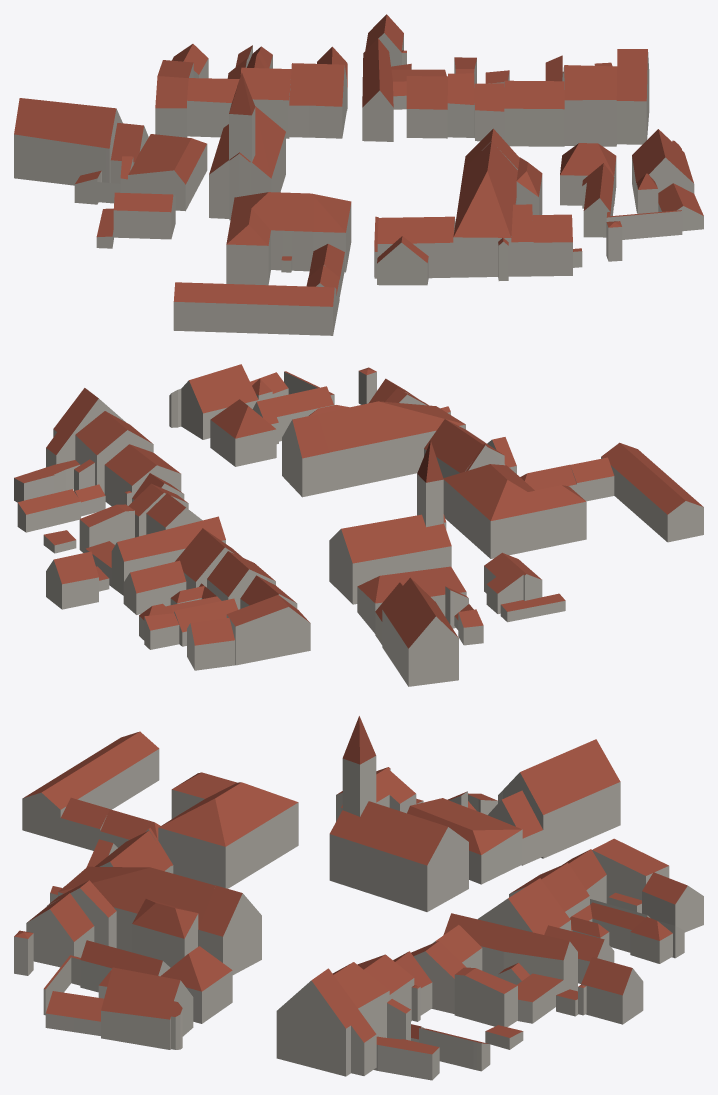
Rendered from buildings.glb.
The picture shows the model from 3 angles, top to bottom: view 1: azimuth 30°, elevation 25°; view 2: azimuth 150°, elevation 25°; view 3: azimuth 270°, elevation 25°; orthographic projection. The views are drawn at different scales.
Parts seen in each view (by area): view 1: LoD2 Gebaeude; view 2: LoD2 Gebaeude; view 3: LoD2 Gebaeude.
Part boxes in pixels (left/top/right/bottom): LoD2 Gebaeude: left=14, top=14, right=703, bottom=335; LoD2 Gebaeude: left=14, top=364, right=703, bottom=686; LoD2 Gebaeude: left=14, top=716, right=703, bottom=1080.
Bounding box in the file's own units: 153 × 37.27 × 144.
